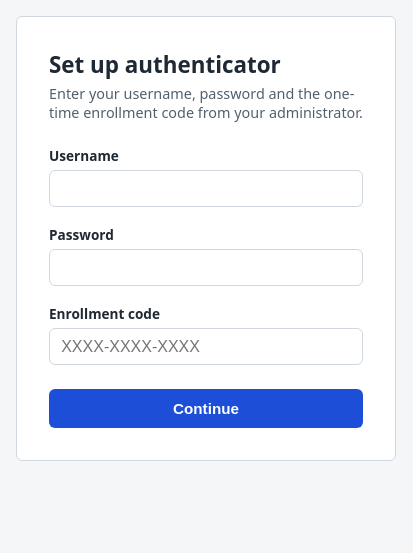
Scenario: EnrollPage (Phase 7A) › has labelled form controls and requires every field before any request is made
expect the heading "Set up authenticator" is shown: met, box [49,49,281,80]
expect the field labelled "Username" is shown: met, box [49,170,363,207]
Click the button "Continue".
click(206, 408)  # box [49,389,363,428]
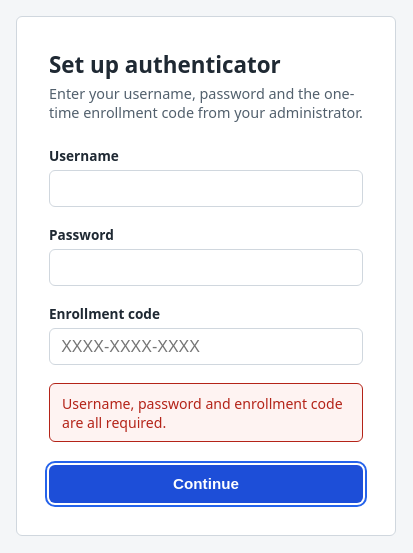
expect the message shows "all required": met, box [62,394,343,432]
